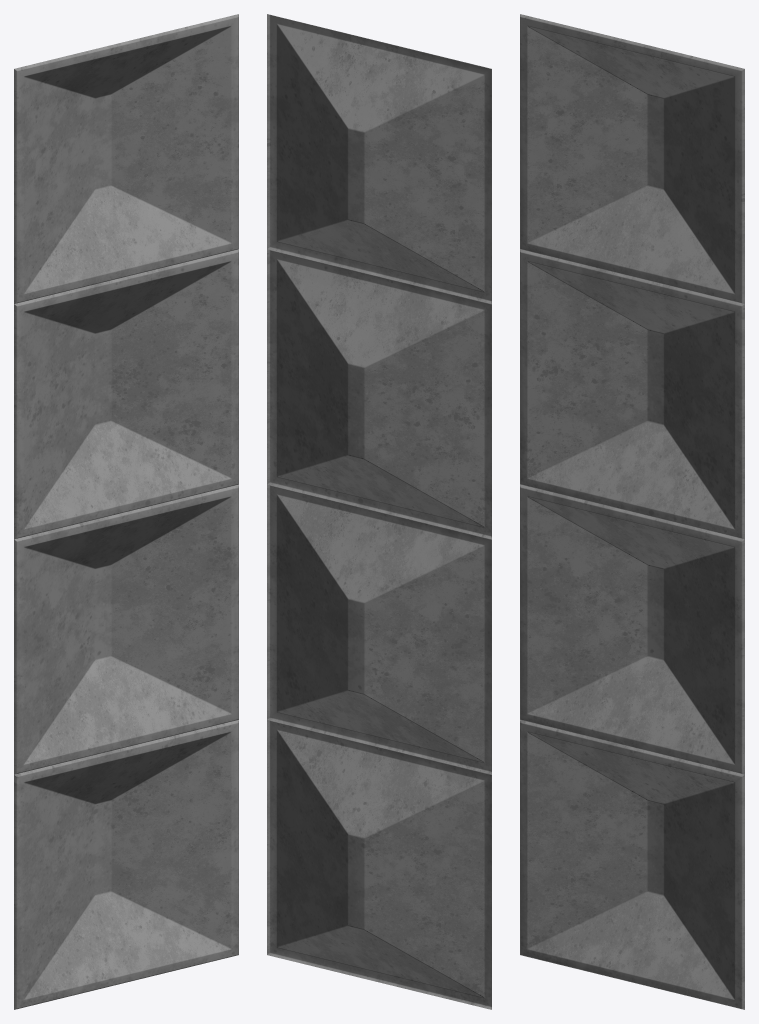
File: SM_Wall_40.fbx
3 views of the same model, side by side, from view 1: azimuth 30°, elevation 25°; view 2: azimuth 150°, elevation 25°; view 3: azimuth 330°, elevation 25° (orthographic).
Parts seen in each view (by area): view 1: SM_Wall_42; view 2: SM_Wall_42; view 3: SM_Wall_42.
Part boxes in pixels (left/top/right/bottom): SM_Wall_42: left=14, top=14, right=238, bottom=1009; SM_Wall_42: left=267, top=14, right=491, bottom=1009; SM_Wall_42: left=520, top=14, right=744, bottom=1009.
Bounding box in the file's own units: 200 × 800 × 38.04.
